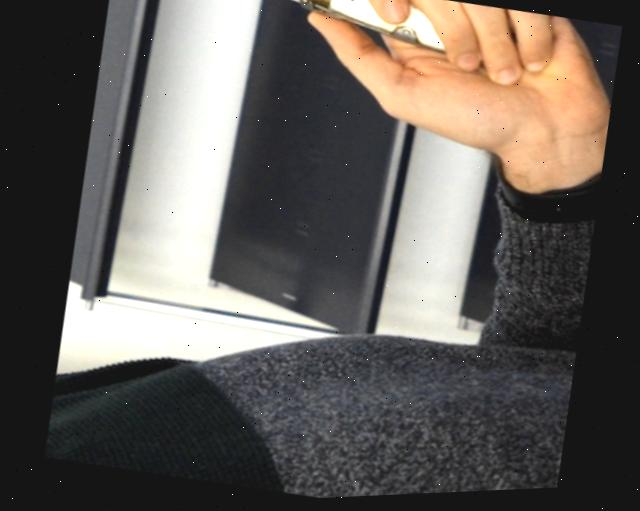pocket-knife: (108, 0, 526, 83)
